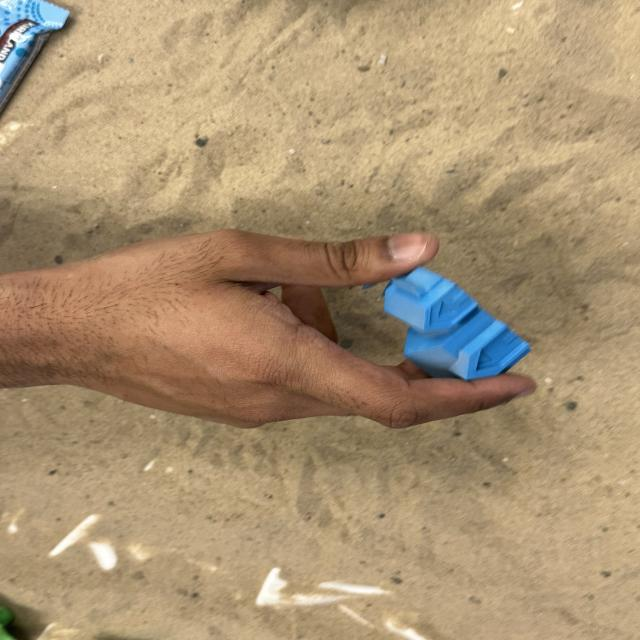house: (381, 264, 532, 382)
